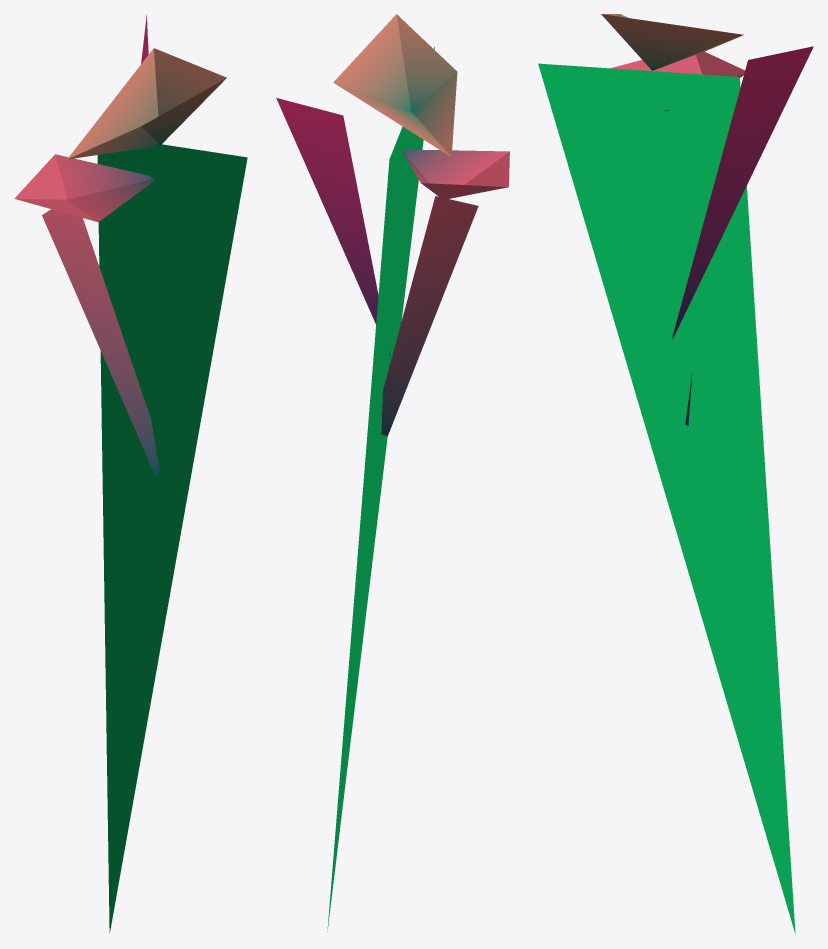
File: Nordic_Coastal_Groundcover_vlqkdeaja_Mid_vlqkdeaja_VarG_LOD3.fbx
3 renders of one model, left to right at view 1: azimuth 30°, elevation 25°; view 2: azimuth 150°, elevation 25°; view 3: azimuth 270°, elevation 25°, orthographic. The views are drawn at different scales.
Parts seen in each view (by area): view 1: _oq1q_VarG_LOD5; view 2: _oq1q_VarG_LOD5; view 3: _oq1q_VarG_LOD5.
Boxes of the visible parts, bbox=[...] form: _oq1q_VarG_LOD5: bbox=[14, 15, 247, 933]; _oq1q_VarG_LOD5: bbox=[276, 14, 509, 931]; _oq1q_VarG_LOD5: bbox=[538, 14, 813, 934].
Size of the model in its own units: 7.99 by 36.61 by 9.83.
